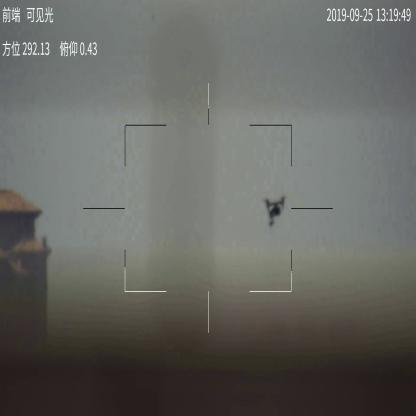uav: (262, 193, 288, 228)
